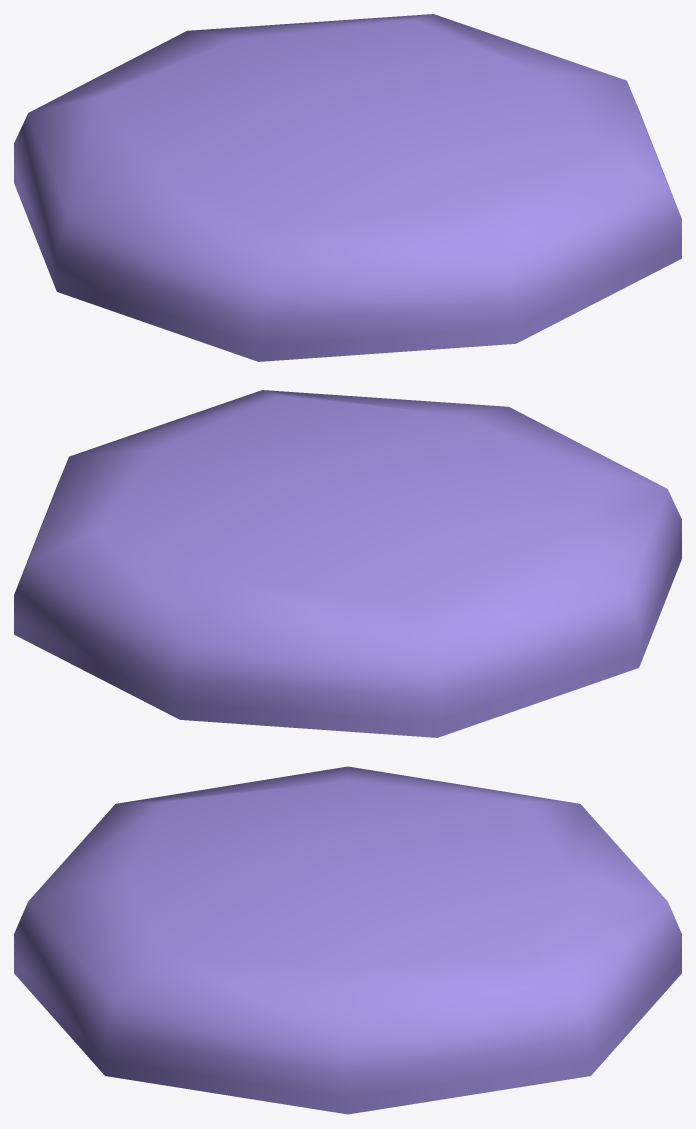
Rendered from Loceta.fbx.
3 renders of one model, top to bottom at view 1: azimuth 30°, elevation 25°; view 2: azimuth 150°, elevation 25°; view 3: azimuth 270°, elevation 25°, orthographic.
Visible parts, largest first — view 1: Gel_Azul_02; view 2: Gel_Azul_02; view 3: Gel_Azul_02.
Part boxes in pixels (x1=…): Gel_Azul_02: x1=14, y1=14, x2=681, y2=361; Gel_Azul_02: x1=14, y1=390, x2=681, y2=737; Gel_Azul_02: x1=14, y1=766, x2=681, y2=1114.
Size of the model in its own units: 92.65 by 16.63 by 92.65.
